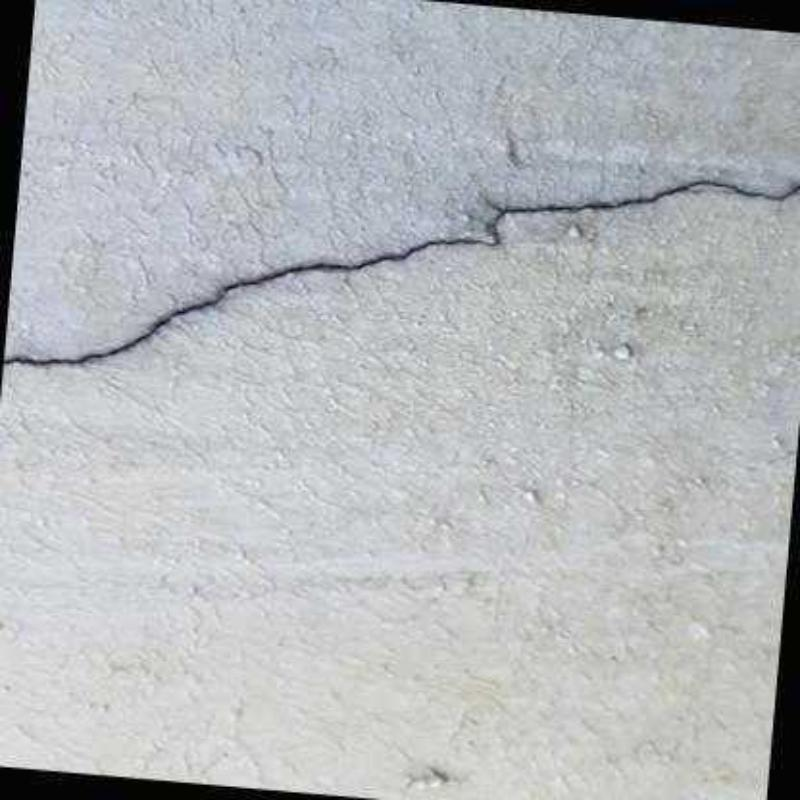pothole: (3, 181, 798, 365)
